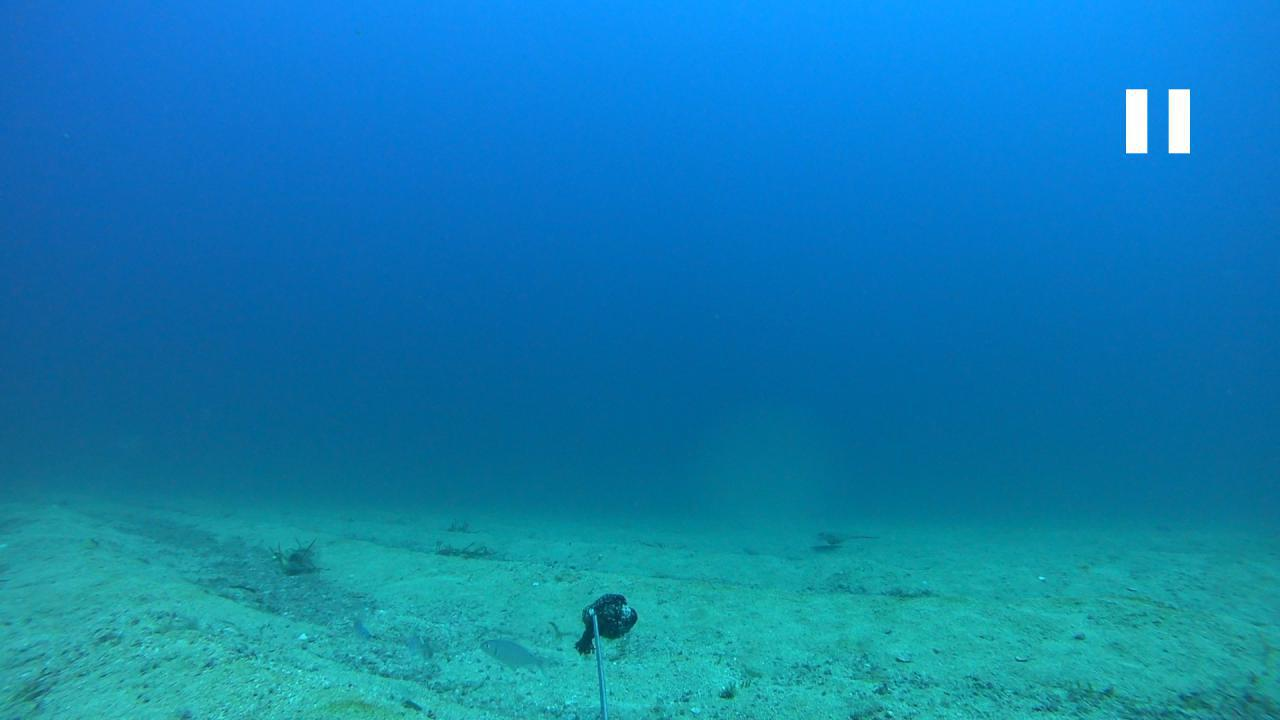dasyatis: (813, 526, 880, 544)
pagellus: (480, 640, 550, 672)
